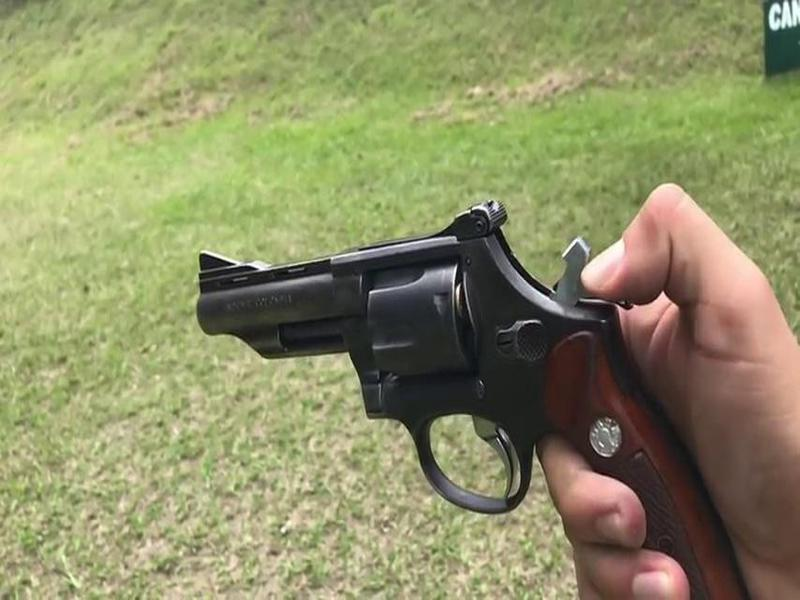Revolver: (183, 204, 689, 600)
